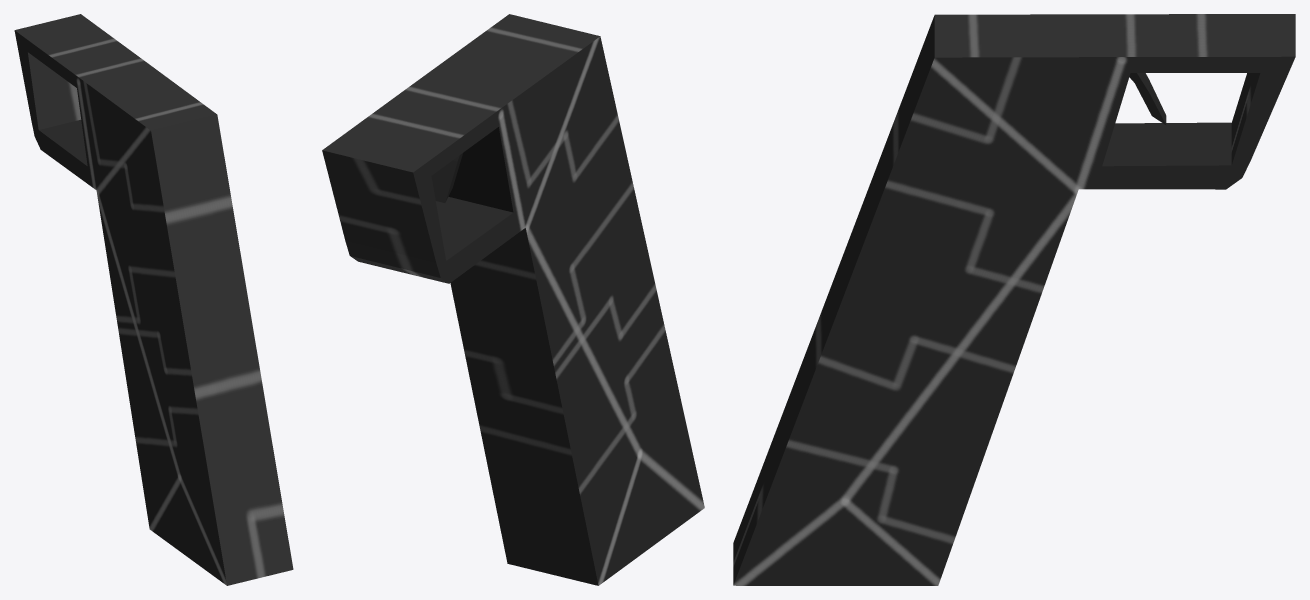
File: Pistol_Handle_01.fbx
3 renders of one model, left to right at view 1: azimuth 30°, elevation 25°; view 2: azimuth 150°, elevation 25°; view 3: azimuth 270°, elevation 25°, orthographic. The views are drawn at different scales.
Visible parts, largest first — view 1: 立方体; view 2: 立方体; view 3: 立方体.
Boxes of the visible parts, bbox=[...] form: 立方体: bbox=[14, 14, 293, 585]; 立方体: bbox=[322, 14, 704, 585]; 立方体: bbox=[733, 14, 1295, 585].
Size of the model in its own units: 40.12 by 231 by 223.
